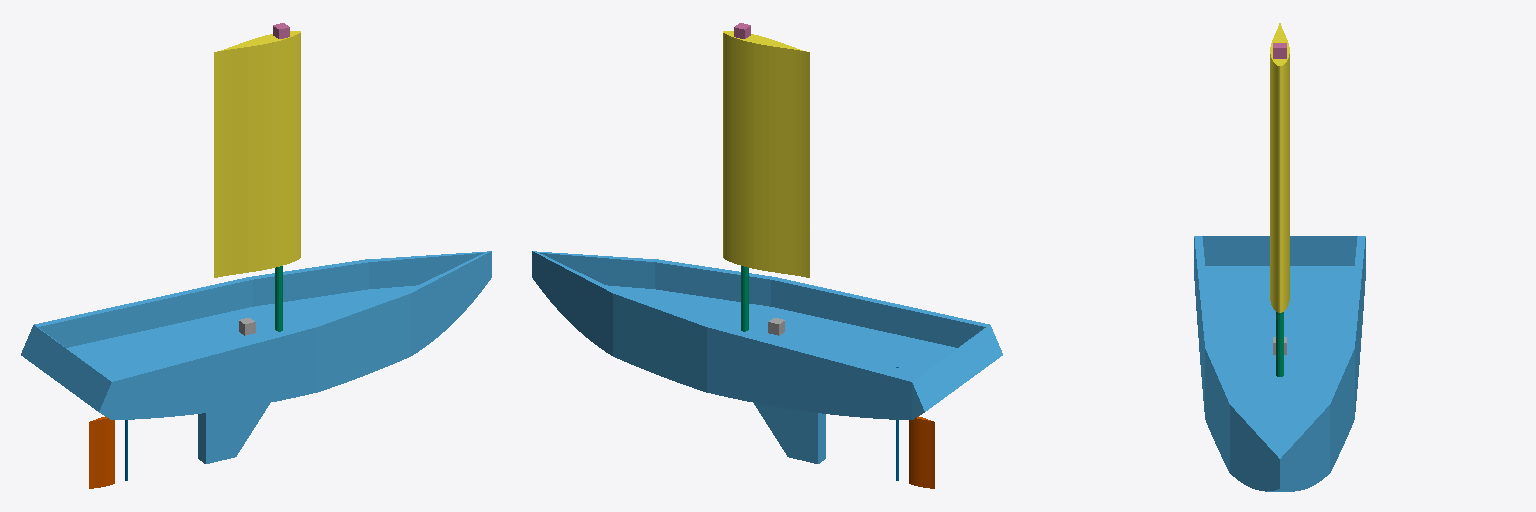
The robot description file, URDF, robot "stintboat":
<?xml version="1.0"?>
<robot name="stintboat">

<!-- LINKS -->
<!-- Based on format described in: https://classic.gazebosim.org/tutorials?tut=ros_urdf  -->
<!-- Inertial and origin values where taken from the Fusion360 model. -->
  <link name="dummy_link">
  </link>

<!-- Hull (Material: CFRP) -->
  <link name="base_link">
    <inertial>
      <origin xyz="0.8343461090897695 1.8476860883908343e-05 0.4324897304587565" rpy="0 0 0"/>
      <mass value="204.1612"/>
      <inertia ixx="6.489236" ixy="-0.002075" ixz="0.793396" iyy="43.15021" iyz="-0.000481" izz="47.153377"/>
    </inertial>
    <visual>
      <geometry>
        <mesh filename="package://stintboat_description/meshes/hull.dae"/>
      </geometry>
      <origin xyz="0 0 0" rpy="0 0 0"/>
    </visual>
    <collision>
      <geometry>
        <mesh filename="package://stintboat_description/meshes/hull.dae"/>
      </geometry>
      <origin xyz="0 0 0" rpy="0 0 0"/>
    </collision>
  </link>

<!-- Mast (Material: Aluminum) -->
  <link name="mast_link">
    <inertial>
      <origin xyz="2.220446049250313e-16 -1.4210854715202004e-16 0.6499999999999995" rpy="0 0 0"/>
      <mass value="2.481072798172541"/>
      <inertia ixx="0.349557" ixy="0.0" ixz="0.0" iyy="0.349557" iyz="0.0" izz="0.000279"/>
    </inertial>
    <visual>
      <geometry>
        <mesh filename="package://stintboat_description/meshes/mast.dae"/>
      </geometry>
      <origin xyz="-0.957 -0.0 -0.5" rpy="0 0 0"/>
    </visual>
    <collision>
      <geometry>
        <mesh filename="package://stintboat_description/meshes/mast.dae"/>
      </geometry>
      <origin xyz="-0.957 -0.0 -0.5" rpy="0 0 0"/>
    </collision>
  </link>

<!-- Sail (Material: CFRP) -->
  <link name="sail_link">
    <inertial>
      <origin xyz="-0.06425696919906199 4.753731293681053e-17 -0.5000000000000011" rpy="0 0 0"/>
      <mass value="0.021"/>
      <inertia ixx="0.02" ixy="0.0" ixz="0.0" iyy="0.02" iyz="0.0" izz="0.0"/>
    </inertial>
    <visual>
      <geometry>
        <mesh filename="package://stintboat_description/meshes/sail.dae"/>
      </geometry>
      <origin xyz="-0.957 -0.0 -1.8" rpy="0 0 0"/>
    </visual>
    <collision>
      <geometry>
        <mesh filename="package://stintboat_description/meshes/sail.dae"/>
      </geometry>
      <origin xyz="-0.957 -0.0 -1.8" rpy="0 0 0"/>
    </collision>
  </link>

<!-- Pole (Material: Aluminum) -->
  <link name="pole_link">
    <inertial>
      <origin xyz="-2.7755575615628914e-17 0.0 -0.25" rpy="0 0 0"/>  
      <mass value="0.23856469213197484"/>
      <inertia ixx="0.004973" ixy="0.0" ixz="0.0" iyy="0.004973" iyz="0.0" izz="7e-06"/>
    </inertial>
    <visual>  
      <geometry>
        <mesh filename="package://stintboat_description/meshes/pole.dae"/>
      </geometry>
      <origin xyz="-0.25 -0.0 -0.5" rpy="0 0 0"/>
    </visual>
    <collision>
      <geometry>
        <mesh filename="package://stintboat_description/meshes/pole.dae"/>
        <origin xyz="-0.25 -0.0 -0.5" rpy="0 0 0"/>
      </geometry>
    </collision>
  </link>

<!-- Rudder (Material:CFRP) -->
  <link name="rudder_link">
    <inertial>
      <origin xyz="-0.0571587336123294 4.414970727608667e-17 0.1500000000000002" rpy="0 0 0"/>  
      <mass value="1.3349130842340802"/>
      <inertia ixx="0.010058" ixy="0.0" ixz="0.0" iyy="0.012892" iyz="0.0" izz="0.002925"/>
    </inertial>
    <visual>
      <geometry>
        <mesh filename="package://stintboat_description/meshes/rudder.dae"/>
      </geometry>
      <origin xyz="-0.25 -0.0 -0.0" rpy="0 0 0"/>
    </visual>
    <collision>
      <geometry>
        <mesh filename="package://stintboat_description/meshes/rudder.dae"/>
      </geometry>
      <origin xyz="-0.25 -0.0 -0.0" rpy="0 0 0"/>
    </collision>
  </link>

<!-- Camera link -->
  <link name="camera_link">
    <collision>
      <origin xyz="0.00999 0.0 0.0182"/>
      <geometry>
        <box size="0.05 0.05 0.05"/>
      </geometry>
    </collision>
    <visual>
      <origin xyz="0.00999 0.0 0.0182" rpy="0.0 0.0 0.0"/>
      <geometry>
        <box size="0.05 0.05 0.05"/>
      </geometry>
      <material name="black"/>
    </visual>
    <inertial>
      <mass value="1e-5" />
      <origin xyz="0.00999 0 0.0182" rpy="0.0 0.0 0.0"/>
      <inertia ixx="1e-6" ixy="0" ixz="0" iyy="1e-6" iyz="0" izz="1e-6" />
    </inertial>
  </link>

<!-- IMU link -->
  <link name="imu_link">
    <collision>
      <origin xyz="0.00800 0.0 0.05"/>
      <geometry>
        <box size="0.05 0.05 0.05"/>
      </geometry>
    </collision>
    <visual>
      <origin xyz="0.00800 0.0 0.05" rpy="0.0 0.0 0.0"/>
      <geometry>
        <box size="0.05 0.05 0.05"/>
      </geometry>
      <material name="black"/>
    </visual>
    <inertial>
      <mass value="1e-5" />
      <origin xyz="0.00800 0.0 0.05" rpy="0.0 0.0 0.0"/>
      <inertia ixx="1e-6" ixy="0" ixz="0" iyy="1e-6" iyz="0" izz="1e-6" />
    </inertial>
  </link>

<!-- LINK MATERIALS -->
  <gazebo reference="base_link">
    <material>Gazebo/Blue</material>
  </gazebo>

  <gazebo reference="mast_link">
    <material>Gazebo/Gray</material>
  </gazebo>

  <gazebo reference="sail_link">
    <material>Gazebo/White</material>
  </gazebo>

  <gazebo reference="pole_link">
    <material>Gazebo/Gray</material>
  </gazebo>

  <gazebo reference="rudder_link">
    <material>Gazebo/White</material>
  </gazebo>

  <gazebo reference="camera_link">
    <material>Gazebo/Black</material>
  </gazebo>

  <gazebo reference="imu_link">
    <material>Gazebo/Black</material>
  </gazebo>

<!-- JOINTS -->
<!-- Based on format described in: http://wiki.ros.org/urdf/XML/joint -->
  <joint name="dummy_joint" type="fixed">
    <parent link="dummy_link"/>
    <child link="base_link"/>
  </joint>

  <joint name="base_mast_joint" type="continuous">
    <parent link="base_link"/>
    <child link="mast_link"/>
    <axis xyz="0.0 0.0 1.0"/>
    <origin xyz="0.957 0.0 0.5" rpy="0 0 0"/>
  </joint>

  <joint name="mast_sail_joint" type="fixed">
    <parent link="mast_link"/>
    <child link="sail_link"/>
    <origin xyz="0.0 0.0 1.3" rpy="0 0 0"/>
  </joint>

  <joint name="base_pole_joint" type="continuous">
    <parent link="base_link"/>
    <child link="pole_link"/>
    <axis xyz="0.0 0.0 -1.0"/>
    <origin xyz="0.25 0.0 0.5" rpy="0.0 0.0 0.0"/>
  </joint>

  <joint name="pole_rudder_joint" type="fixed">
    <parent link="pole_link"/>
    <child link="rudder_link"/>
    <origin xyz="0.0 0.0 -0.5" rpy="0.0 0.0 0.0"/>
  </joint>

  <joint name="camera_joint" type="fixed">
    <axis xyz="0.0 1.0 0.0"/>
    <origin xyz="0.0 0.0 1.3"/>
    <parent link="mast_link"/>
    <child link="camera_link"/>
  </joint>

  <joint name="imu_joint" type="fixed">
    <axis xyz="1.0 0.0 0.0"/>
    <origin xyz="0.800 0.0 0.5"/>
    <parent link="base_link"/>
    <child link="imu_link"/>
  </joint>

<!-- TRANSMISSION ELEMENTS -->
<!-- Based on format described in: https://wiki.ros.org/urdf/XML/Transmission -->
  <transmission name="sail_trans">
    <type>transmission_interface/SimpleTransmission</type>
    <joint name="base_mast_joint">
      <hardwareInterface>hardware_interface/EffortJointInterface</hardwareInterface>
    </joint>
    <actuator name="mast_motor">
      <hardwareInterface>hardware_interface/EffortJointInterface</hardwareInterface>    
      <mechanicalReduction>1</mechanicalReduction>
    </actuator>
  </transmission>

  <transmission name="rudder_trans">
    <type>transmission_interface/SimpleTransmission</type>
    <joint name="base_pole_joint">
      <hardwareInterface>hardware_interface/EffortJointInterface</hardwareInterface>
    </joint>
    <actuator name="rudder_motor">
      <hardwareInterface>hardware_interface/EffortJointInterface</hardwareInterface>
      <mechanicalReduction>1</mechanicalReduction>
    </actuator>
  </transmission>

<!-- SENSORS -->
<!-- Camera -->
  <gazebo reference="camera_link">
    <sensor type="camera" name="camera1">
      <update_rate>30.0</update_rate>
      <camera name="head">
        <horizontal_fov>1.3962634</horizontal_fov>
        <image>
          <width>1920</width>
          <height>1080</height>
          <format>R8G8B8</format>
        </image>
        <clip>
          <near>0.02</near>
          <far>300</far>
        </clip>
        <noise>
          <type>gaussian</type>
          <mean>0.0</mean>
          <stddev>0.007</stddev>
        </noise>
      </camera>
      <plugin name="camera_controller" filename="libgazebo_ros_camera.so">
        <alwaysOn>true</alwaysOn>
        <updateRate>0.0</updateRate>
        <cameraName>stintboat/camera</cameraName>
        <imageTopicName>image_raw</imageTopicName>
        <cameraInfoTopicName>camera_info</cameraInfoTopicName>
        <frameName>camera_link</frameName>
        <hackBaseline>0.07</hackBaseline>
        <distortionK1>0.0</distortionK1>
        <distortionK2>0.0</distortionK2>
        <distortionK3>0.0</distortionK3>
        <distortionT1>0.0</distortionT1>
        <distortionT2>0.0</distortionT2>
      </plugin>
    </sensor>
  </gazebo>

<!-- IMU -->
  <gazebo reference="imu_link">
    <gravity>true</gravity>
    <sensor name="imu_sensor" type="imu">
      <always_on>true</always_on>
      <update_rate>100</update_rate>
      <visualize>true</visualize>
      <topic>__default_topic__</topic>
      <plugin filename="libgazebo_ros_imu_sensor.so" name="imu_plugin">
        <topicName>imu</topicName>
        <bodyName>imu_link</bodyName>
        <updateRateHZ>10.0</updateRateHZ>
        <gaussianNoise>0.0</gaussianNoise>
        <xyzOffset>0 0 0</xyzOffset>
        <rpyOffset>0 0 0</rpyOffset>
        <frameName>imu_link</frameName>
        <initialOrientationAsReference>false</initialOrientationAsReference>
      </plugin>
      <pose>0 0 0 0 0 0</pose>
    </sensor>
  </gazebo>

<!-- PLUGINS -->
<!-- Plugin: gazebo_ros_control  -->
<!-- Based on format described in: https://github.com/ros-simulation/gazebo_ros_pkgs  -->
  <gazebo>
    <plugin name="gazebo_ros_control" filename="libgazebo_ros_control.so">
      <robotNamespace>/stintboat</robotNamespace>
    </plugin>
  </gazebo>

<gazebo>
    <plugin filename="libusv_gazebo_dynamics_plugin.so" name="usv_dynamics_wamv_dynamics_plugin">
      <bodyName>base_link</bodyName>
      <waterLevel>-0.2</waterLevel>
      <waterDensity>997.8</waterDensity>
<!-- Added mass (default values) -->
      <xDotU>0.0</xDotU>
      <yDotV>0.0</yDotV>
      <nDotR>0.0</nDotR>
<!-- Linear and quadratic drag (default values) -->
      <xU>76.3</xU>
      <xUU>72.4</xUU>
      <yV>65.0</yV>
      <yVV>0.0</yVV>
      <zW>650.0</zW>
      <kP>75.0</kP>
      <mQ>75.0</mQ>
      <nR>550.0</nR>
<!-- General dimensions (hull radius pending) -->
      <boatArea>3.674</boatArea>
      <hullRadius>0.213</hullRadius>
      <boatWidth>0.63</boatWidth>
      <boatLength>2.001</boatLength>
<!-- Length discretization, AKA, "N" -->
      <length_n>2</length_n>
      <wave_model>ocean_waves</wave_model>
    </plugin>
  </gazebo>

  <gazebo>
    <plugin filename="libusv_gazebo_wind_plugin.so" name="wind">
<!-- models to be effected by the wind -->
      <wind_obj>
        <name>stintboat</name>
        <link_name>base_link</link_name>
        <coeff_vector>0.5 0.5 0.33</coeff_vector>
      </wind_obj>
<!-- Wind -->
      <wind_direction>270</wind_direction>
<!-- in degrees -->
      <wind_mean_velocity>10</wind_mean_velocity>
      <var_wind_gain_constants>100</var_wind_gain_constants>
      <var_wind_time_constants>5</var_wind_time_constants>
      <random_seed></random_seed>
<!-- set to zero/empty to randomize -->
      <update_rate>-1</update_rate>
    </plugin>
  </gazebo>

  <!-- Gazebo Buoyancy Plugin -->
<!-- 
<gazebo>
    <plugin name="buoyancy" filename="libBuoyancyPlugin.so">
      <fluid_density>1000</fluid_density>
    </plugin>
</gazebo> -->

<!-- Gazebo LiftDrag Plugin -->
<!--
    <gazebo>
        <plugin name="sail_link" filename="libLiftDragPlugin.so">
          <air_density>1000</air_density>
          
          <cla>0.0881818</cla>
          <cla_stall>-0.0800727</cla_stall>
          
          <cda>0.00239273</cda>
          <cda_stall>0.02712336</cda_stall>
          
          <alpha_stall>16.5</alpha_stall>
          <a0>0.0</a0>
          
          <area>0.825</area>
          <upward>0 1 0</upward>
          <forward>1 0 0</forward>
          <link_name>sail_link</link_name>
          <cp>-0.20 0 -0.5</cp>
        </plugin>
    </gazebo> -->

</robot>

--- What the picture shows (computed from the rendered views, not written in the file) ---
Views: 3 orthographic renders of the robot side by side, from view 1: azimuth 30°, elevation 25°; view 2: azimuth 150°, elevation 25°; view 3: azimuth 270°, elevation 25°.
Robot: stintboat — 8 links, 7 joints (2 continuous, 5 fixed); root link dummy_link; default pose: all joints at 0.
Visible links, largest first — view 1: base_link, sail_link, rudder_link; view 2: base_link, sail_link, rudder_link; view 3: base_link, sail_link.
Boxes of the visible links, box(x1,y1,x2,y2) form: base_link: box(21, 251, 491, 463); sail_link: box(214, 31, 300, 277); rudder_link: box(89, 416, 114, 488); base_link: box(532, 251, 1002, 463); sail_link: box(723, 31, 809, 277); rudder_link: box(909, 416, 934, 488); base_link: box(1194, 236, 1365, 491); sail_link: box(1270, 23, 1289, 312).
Size in the robot's own frame: 2 by 0.63 by 1.84 metres.
Meshes: 5 distinct files referenced, 5 mesh visuals loaded (5 Collada DAE).
